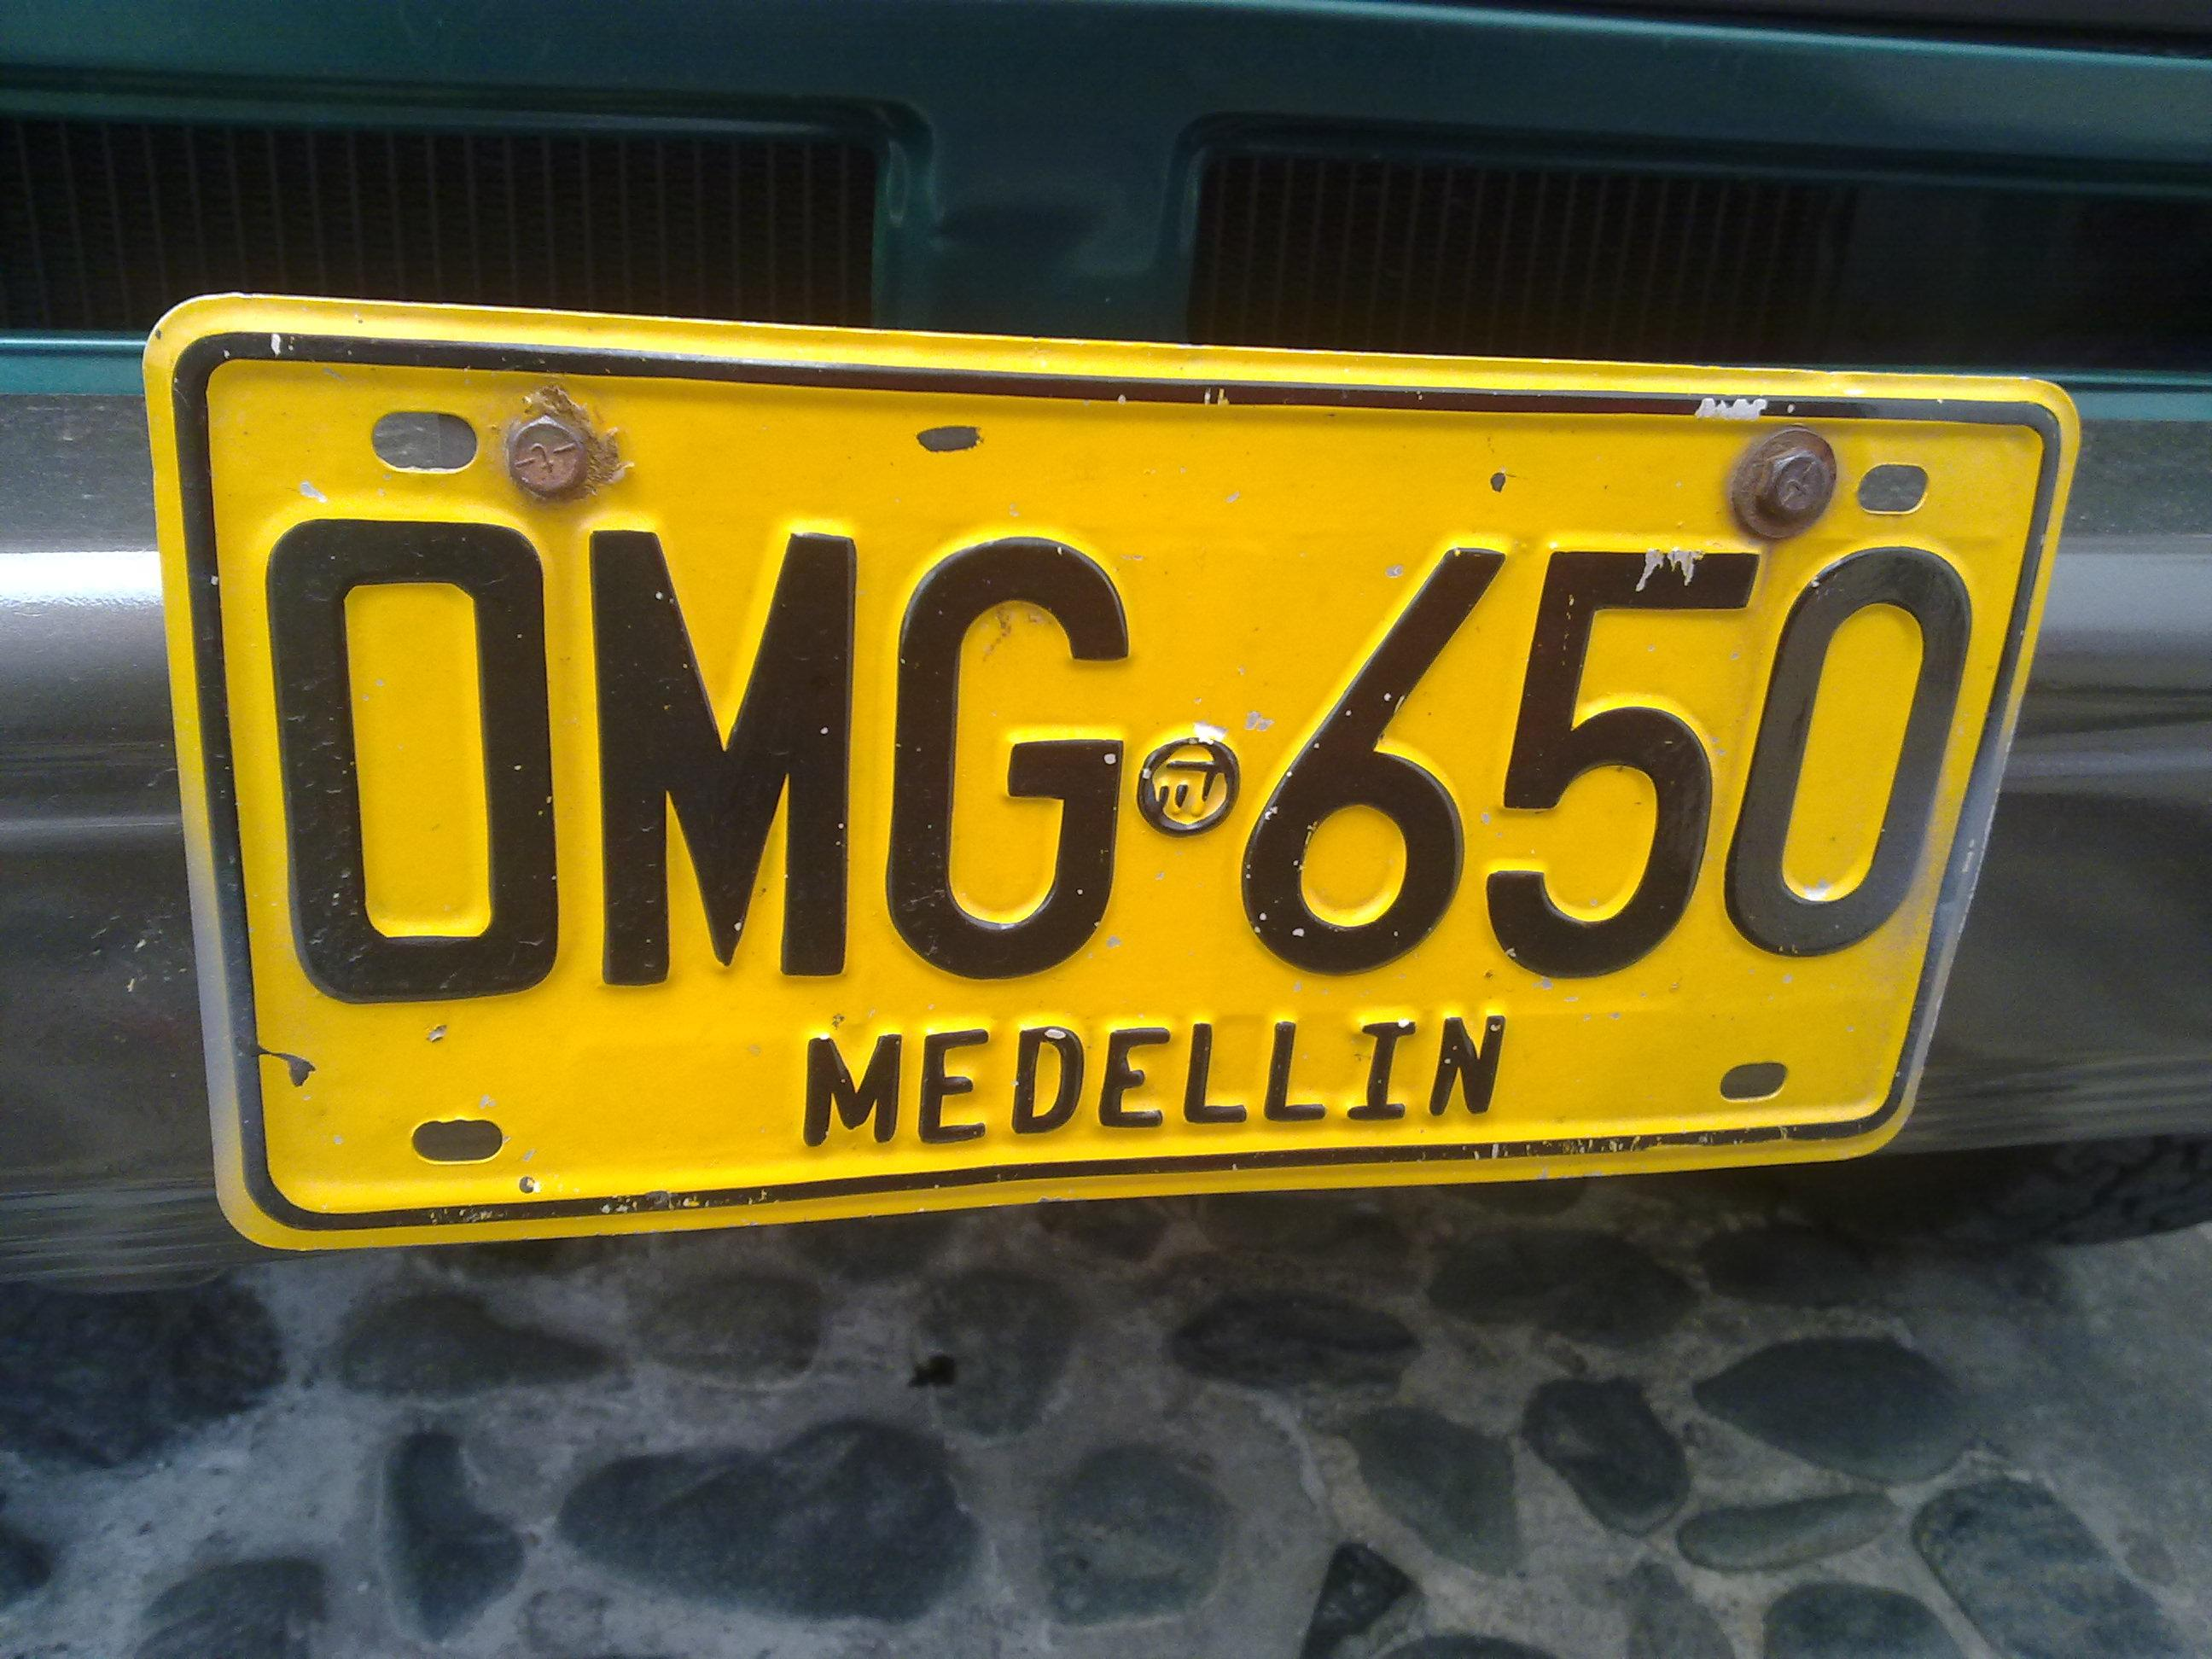placas: (132, 281, 2089, 1260)
